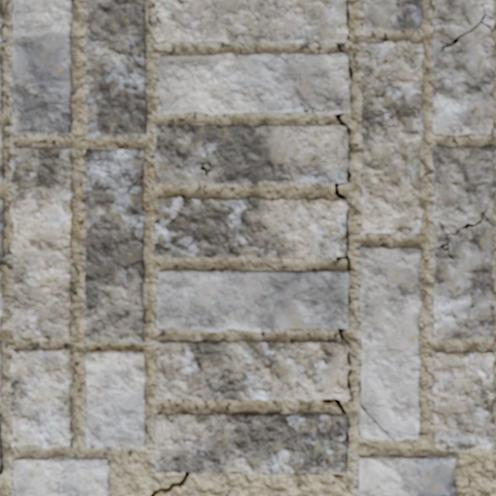brick: (433, 145, 495, 339), (83, 149, 145, 342), (359, 246, 421, 439), (361, 41, 423, 233), (10, 148, 72, 339), (155, 412, 348, 473), (156, 270, 348, 331), (156, 340, 348, 401), (158, 53, 347, 114), (154, 197, 346, 257), (155, 124, 348, 183), (432, 0, 495, 134), (85, 0, 146, 136), (155, 0, 347, 43), (12, 0, 72, 134), (433, 351, 494, 450), (11, 349, 72, 448), (85, 350, 145, 447), (359, 455, 455, 495), (12, 457, 108, 495), (363, 0, 422, 29), (360, 409, 388, 439), (320, 96, 350, 113), (0, 199, 4, 257), (0, 57, 2, 113), (0, 126, 2, 180), (0, 285, 3, 315), (0, 0, 3, 27), (484, 18, 493, 25), (0, 354, 1, 382), (0, 451, 1, 474)
crack: (298, 41, 353, 113), (437, 207, 493, 260), (441, 2, 495, 51), (359, 400, 393, 439), (150, 470, 191, 495), (109, 175, 143, 205), (336, 209, 352, 272), (334, 112, 351, 159), (334, 166, 352, 200), (321, 398, 347, 417), (331, 453, 348, 478), (155, 8, 176, 24), (346, 351, 352, 394), (124, 151, 143, 161), (190, 126, 222, 131), (338, 327, 348, 343), (345, 0, 350, 26), (24, 125, 34, 134), (347, 291, 351, 304), (345, 431, 349, 443), (306, 471, 321, 474), (176, 0, 187, 4), (88, 444, 95, 448), (231, 470, 240, 472)
